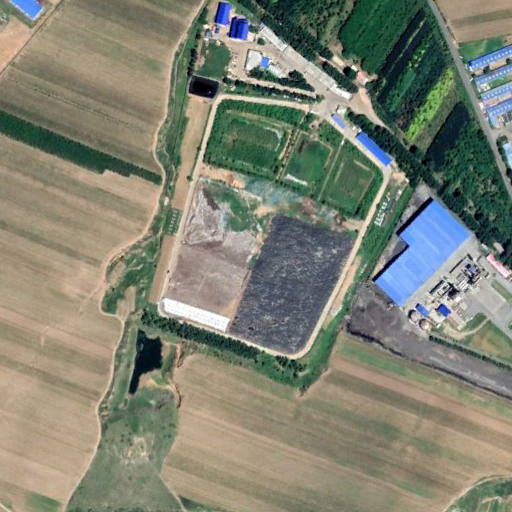lf: (165, 175, 361, 360)
